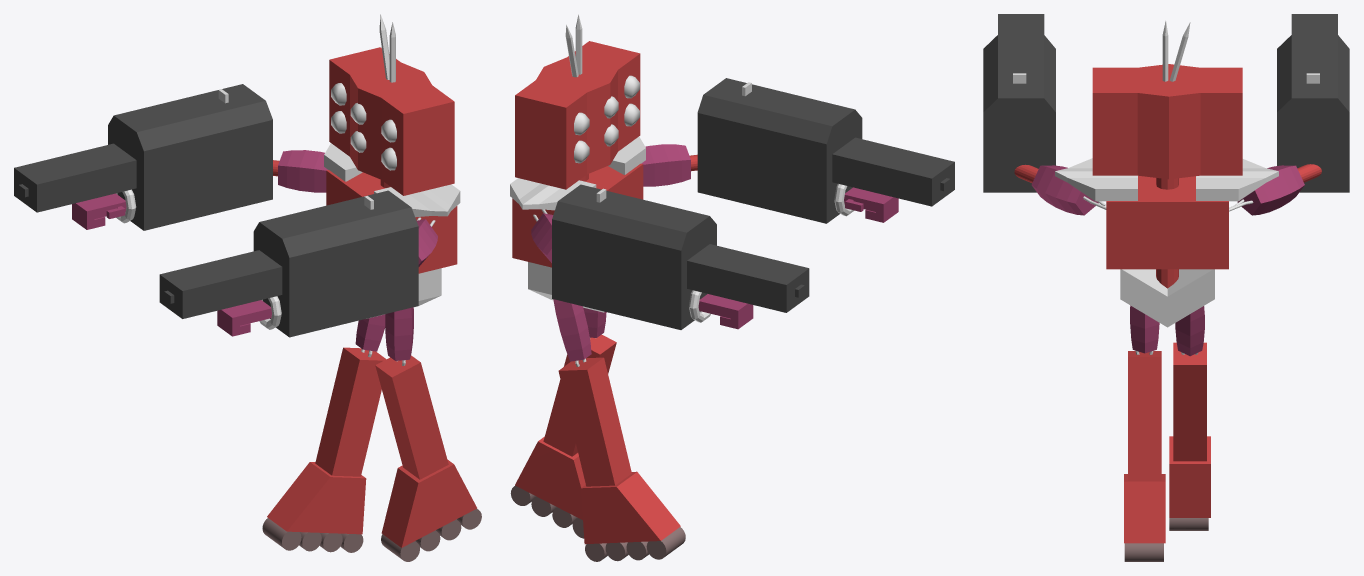
The model's file is ReggieonskatesLP (1).fbx.
The picture shows the model from 3 angles, left to right: view 1: azimuth 30°, elevation 25°; view 2: azimuth 150°, elevation 25°; view 3: azimuth 270°, elevation 25°; orthographic projection.
Visible parts, largest first — view 1: polySurface159; view 2: polySurface159; view 3: polySurface159.
Boxes of the visible parts, left/top/right/bottom form: polySurface159: left=14, top=14, right=481, bottom=561; polySurface159: left=510, top=14, right=954, bottom=561; polySurface159: left=983, top=14, right=1349, bottom=561.
Size of the model in its own units: 3.48 by 4.76 by 2.98.
